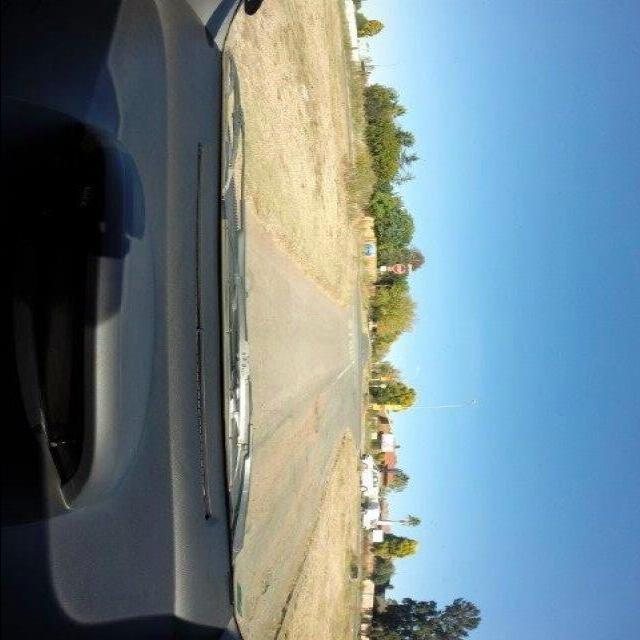lubang: (244, 569, 278, 617), (308, 394, 324, 433)
